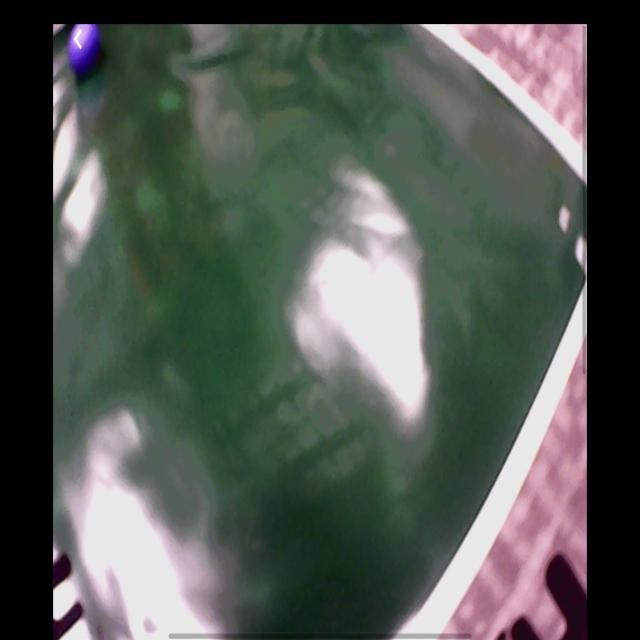ball: (67, 26, 100, 67)
